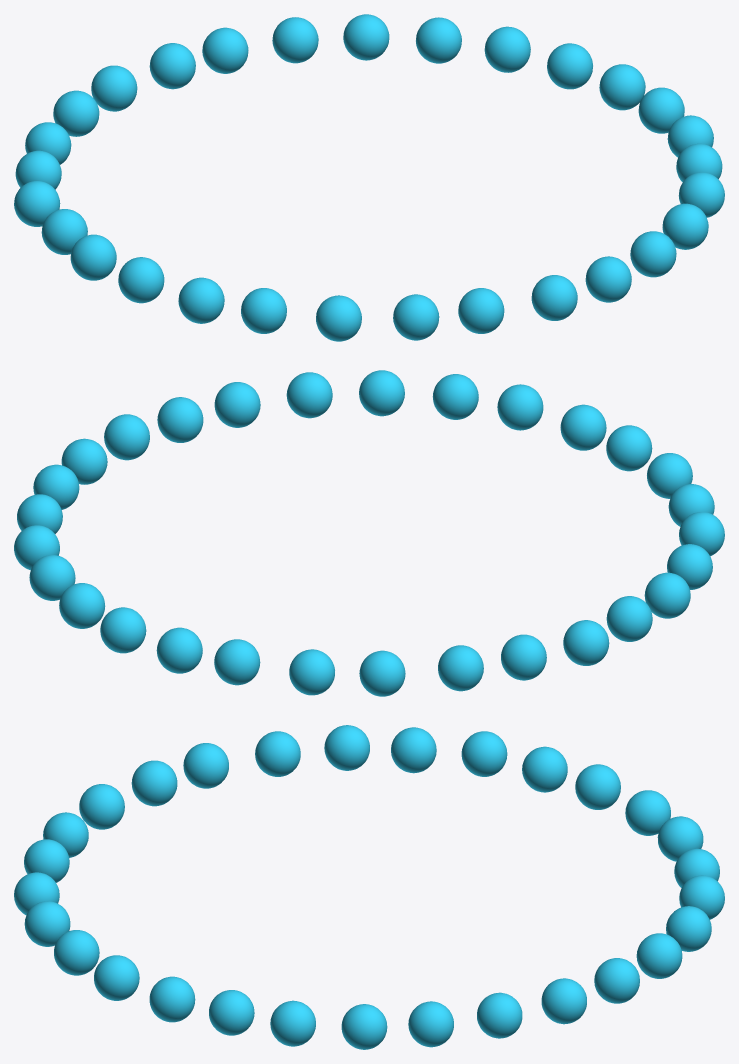
3 renders of one model, top to bottom at view 1: azimuth 30°, elevation 25°; view 2: azimuth 150°, elevation 25°; view 3: azimuth 270°, elevation 25°, orthographic.
Parts seen in each view (by area): view 1: Sphere048; view 2: Sphere048; view 3: Sphere048.
Part boxes in pixels (x1,y1,x2,y2): Sphere048: (14,14,724,341); Sphere048: (14,370,724,696); Sphere048: (14,725,724,1049).
Size of the model in its own units: 126 by 8.22 by 127.
